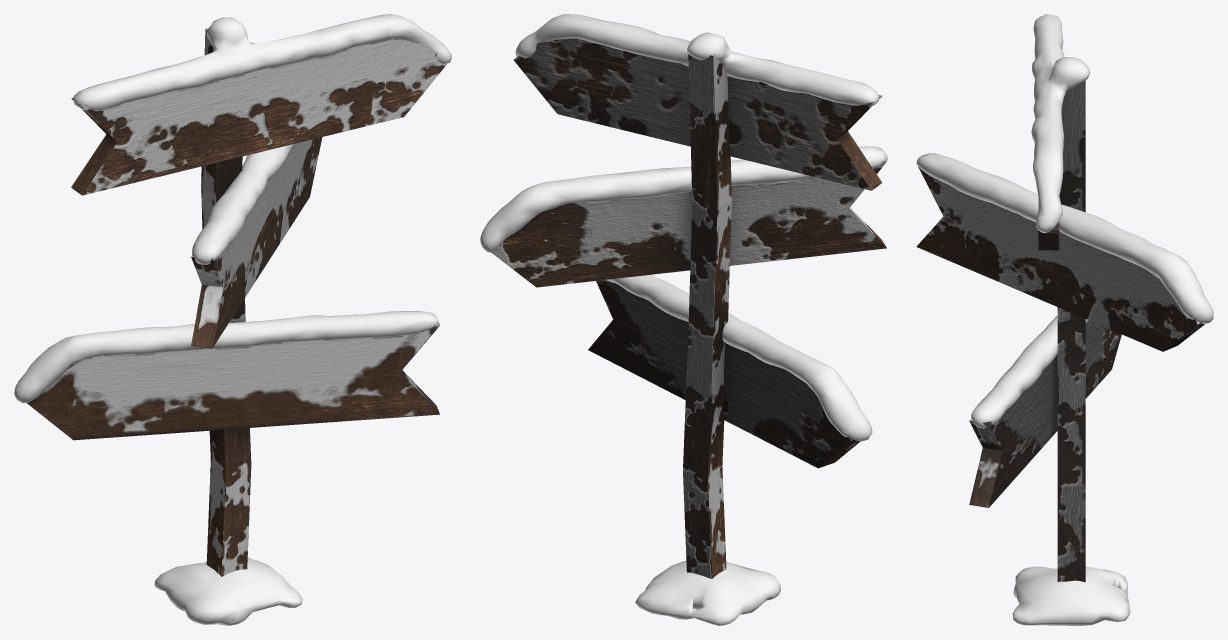
Rendered from snowy_wooden_sign.glb.
3 renders of one model, left to right at view 1: azimuth 30°, elevation 25°; view 2: azimuth 150°, elevation 25°; view 3: azimuth 270°, elevation 25°, orthographic. The views are drawn at different scales.
Visible parts, largest first — view 1: WoodenSign; view 2: WoodenSign; view 3: WoodenSign.
Boxes of the visible parts, bbox=[...] form: WoodenSign: bbox=[14, 14, 451, 625]; WoodenSign: bbox=[480, 14, 887, 625]; WoodenSign: bbox=[916, 14, 1213, 625].
Bounding box in the file's own units: 2.99 × 4.18 × 2.05.
2 materials, 1 textured.
